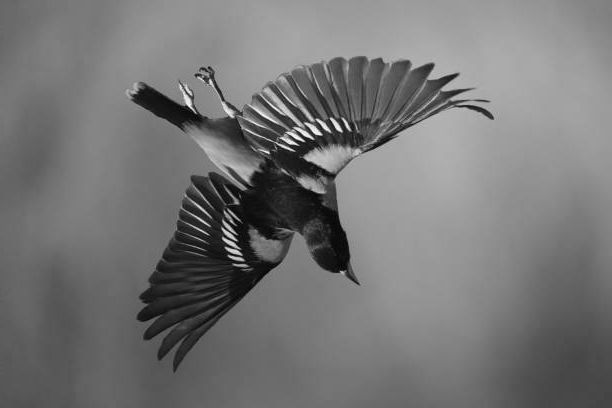Bird: (118, 50, 501, 376)
